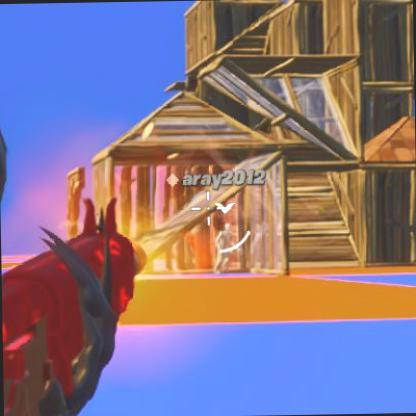person: (216, 220, 240, 270)
